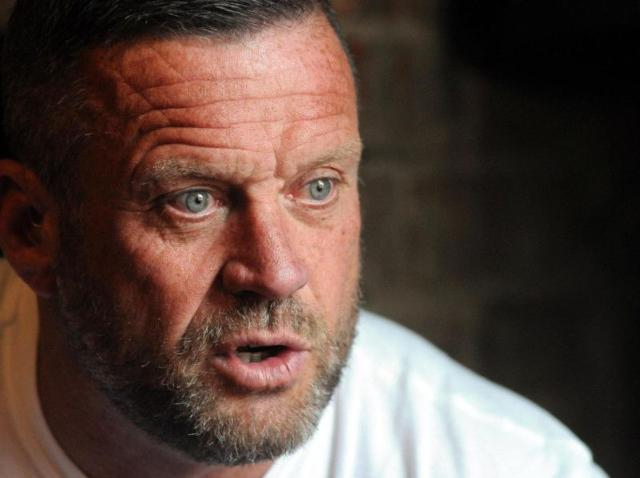crows_feet: (117, 195, 155, 217)
forehead: (146, 134, 224, 156), (137, 116, 195, 136), (210, 88, 256, 110), (150, 96, 192, 118), (125, 76, 155, 104), (293, 82, 329, 102), (310, 106, 342, 128)
frown_line: (266, 152, 288, 196)
gummy_smile: (186, 267, 218, 327)
